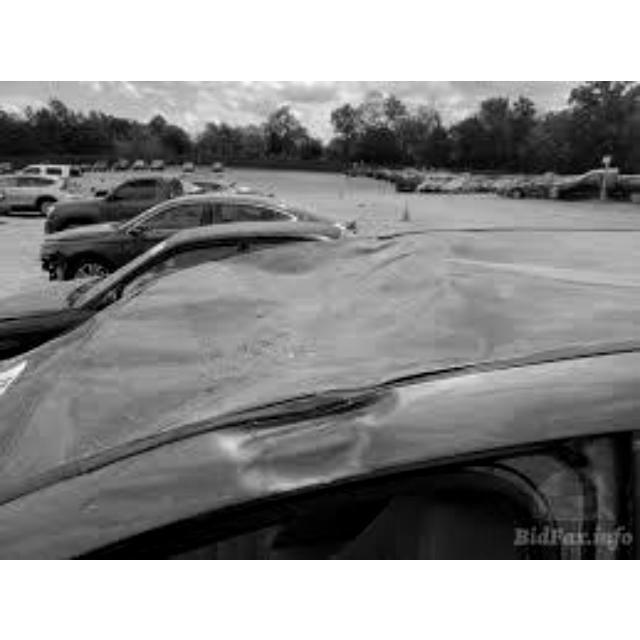roof-dent: (1, 229, 638, 520)
